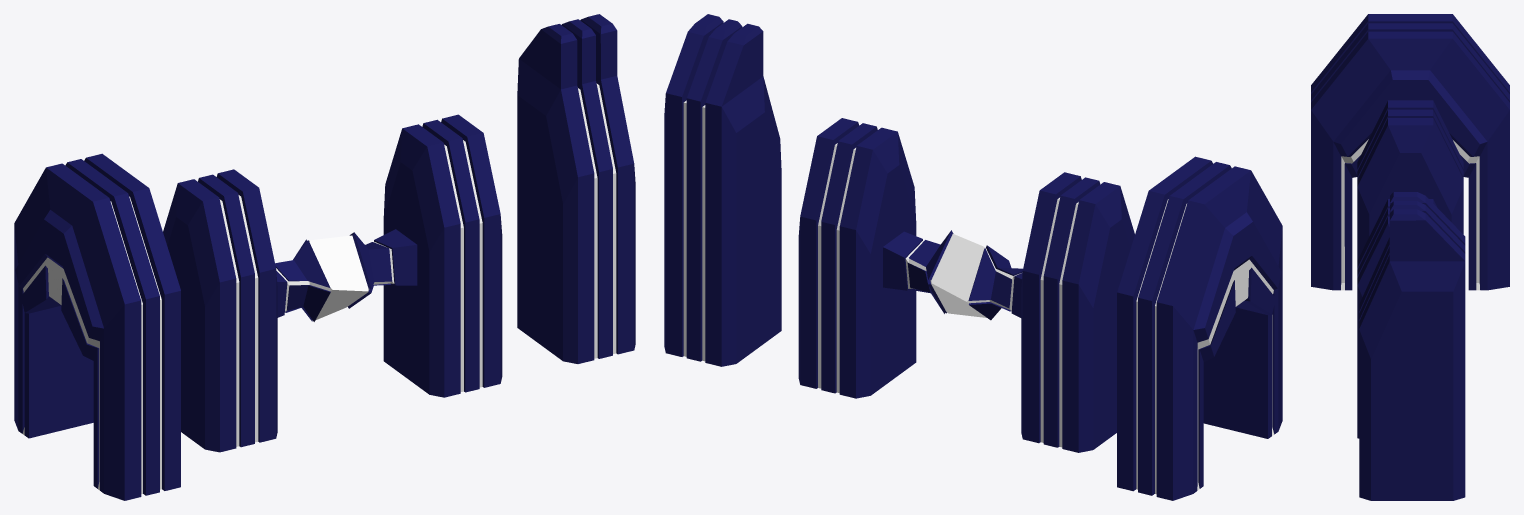
The model's file is arena_env_1.fbx.
3 renders of one model, left to right at view 1: azimuth 30°, elevation 25°; view 2: azimuth 150°, elevation 25°; view 3: azimuth 270°, elevation 25°, orthographic. The views are drawn at different scales.
Visible parts, largest first — view 1: Cube.001, Cube.002, Cube; view 2: Cube.001, Cube.002, Cube; view 3: Cube.002, Cube, Cube.001.
Boxes of the visible parts, left/top/right/bottom form: Cube.001: left=163, top=114, right=502, bottom=452; Cube.002: left=14, top=153, right=180, bottom=500; Cube: left=517, top=14, right=635, bottom=363; Cube.001: left=798, top=118, right=1134, bottom=452; Cube.002: left=1117, top=156, right=1282, bottom=500; Cube: left=664, top=14, right=781, bottom=366; Cube.002: left=1311, top=14, right=1509, bottom=290; Cube: left=1359, top=192, right=1465, bottom=500; Cube.001: left=1357, top=100, right=1463, bottom=438.
Size of what is drawn, in the model's own units: 5727 by 3064 by 1959.
